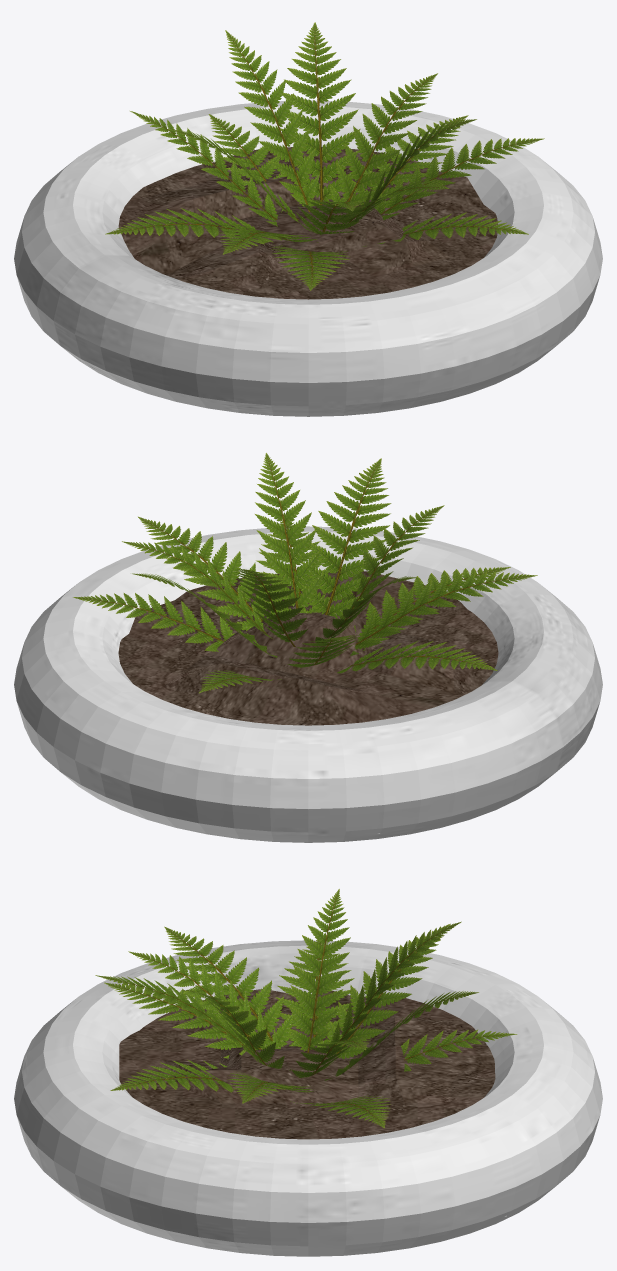
Rendered from Fern with Pot.fbx.
The picture shows the model from 3 angles, top to bottom: view 1: azimuth 30°, elevation 25°; view 2: azimuth 150°, elevation 25°; view 3: azimuth 270°, elevation 25°; orthographic projection.
Visible parts, largest first — view 1: Torus, fern, Plane; view 2: Torus, fern, Plane; view 3: Torus, Plane, fern.
Boxes of the visible parts, x1,y1,x2,y2 form: Torus: [14, 100, 602, 416]; fern: [105, 22, 544, 290]; Plane: [118, 147, 497, 299]; Torus: [14, 526, 602, 842]; fern: [73, 453, 537, 693]; Plane: [118, 571, 498, 725]; Torus: [14, 940, 602, 1256]; Plane: [119, 989, 495, 1139]; fern: [95, 889, 517, 1128].
Size of the model in its own units: 58.21 by 25.21 by 58.21.
Materials: 3 (3 with a texture image).
